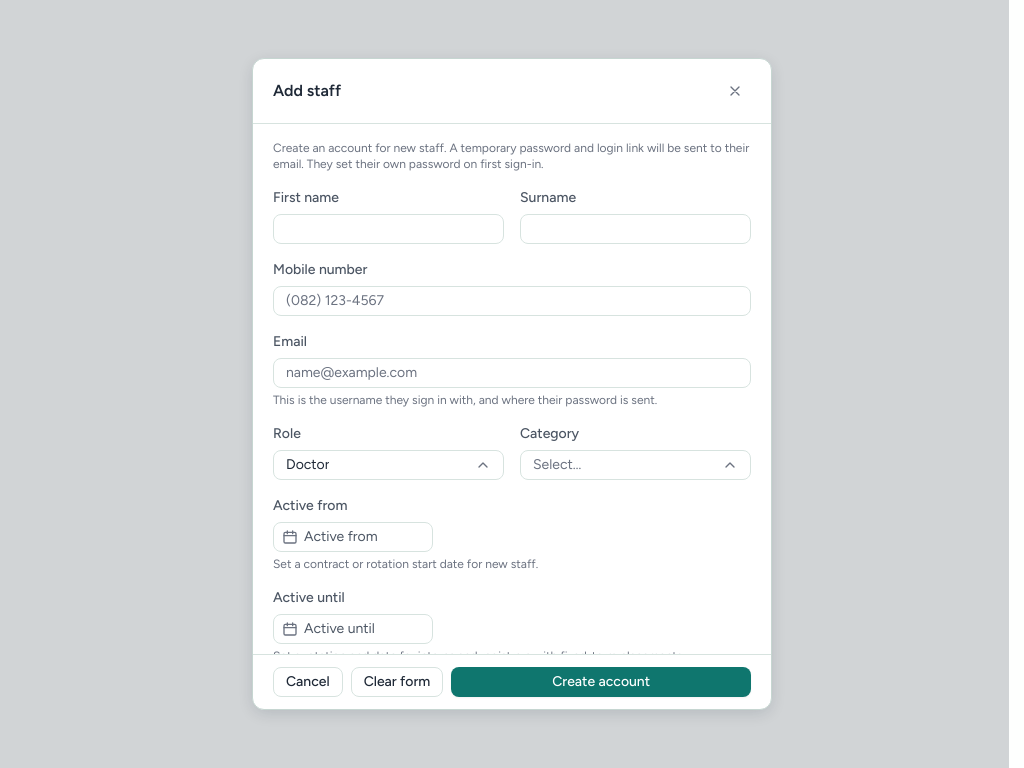
Test: AddStaffModal › offers rotations only for the categories the planner tracks
Click the button "Select…": x=636, y=465 [520,450,751,480]
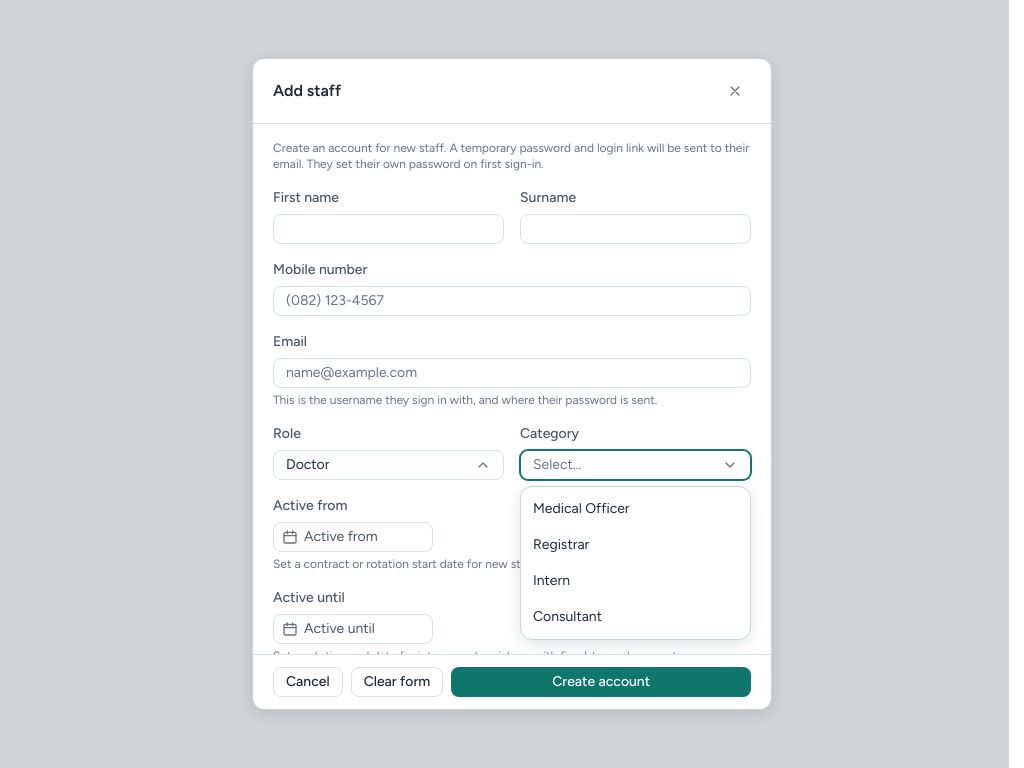
Click the option "Medical Officer": x=636, y=509 [521,491,750,527]
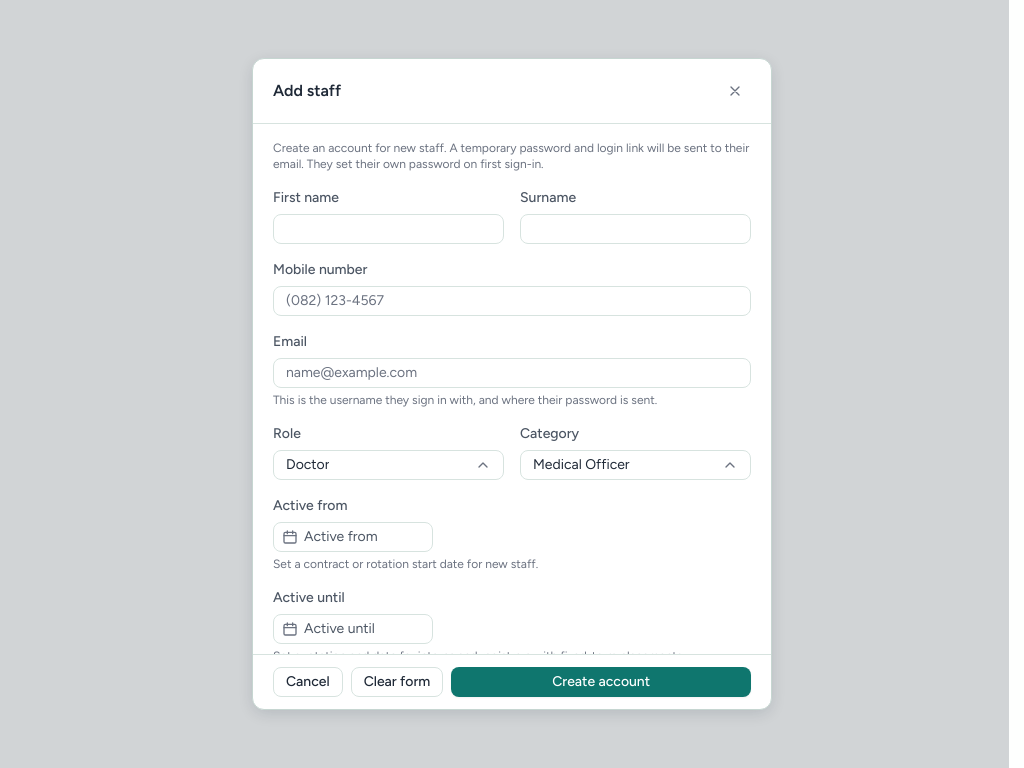
Expected: the button "Add rotation" is not shown
Click the button "Medical Officer": x=636, y=465 [520,450,751,480]
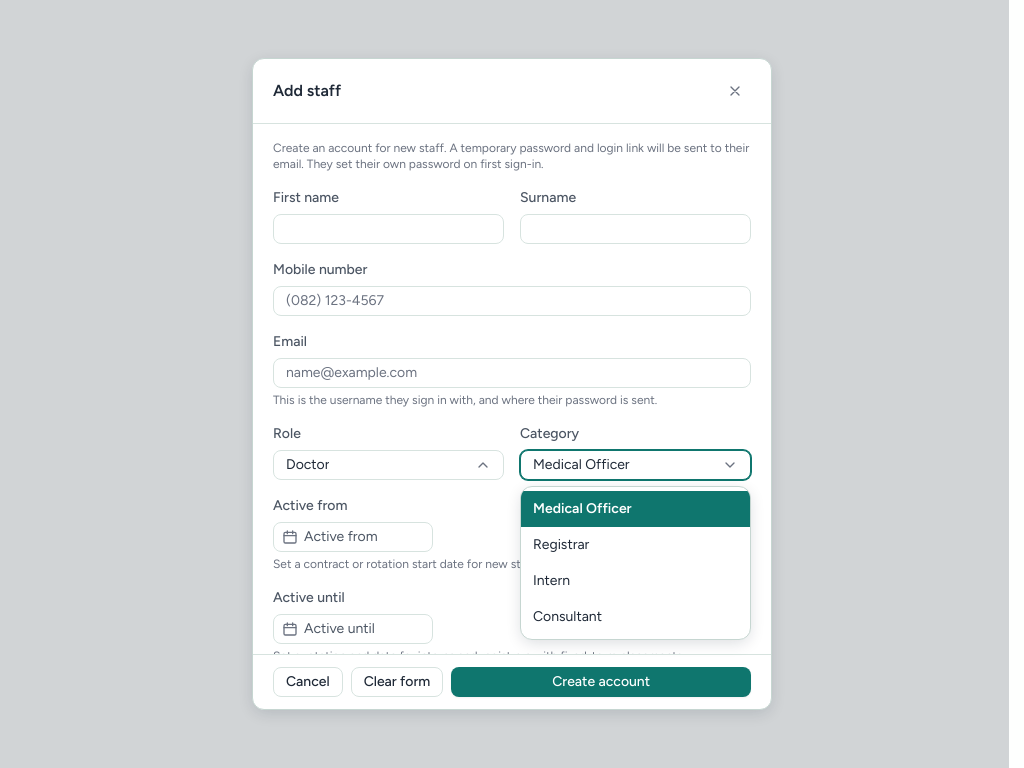
Click the option "Registrar": x=636, y=545 [521,527,750,563]
(page scrolled)
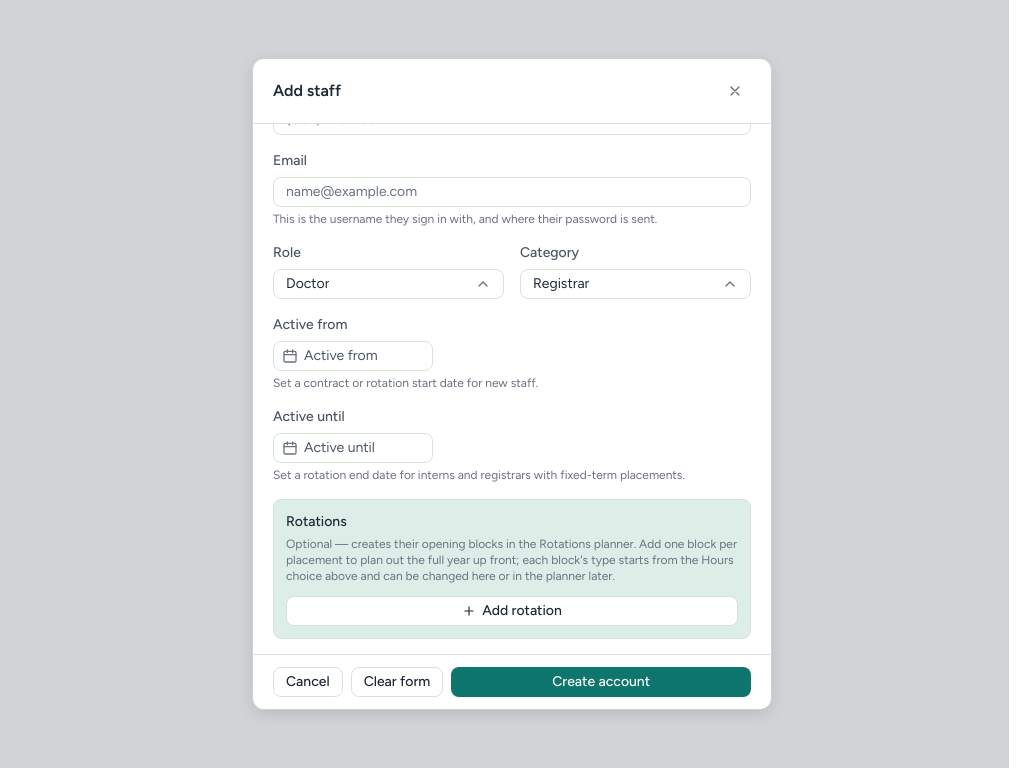
Expected: the button "Add rotation" is shown, [286,596,738,626]
